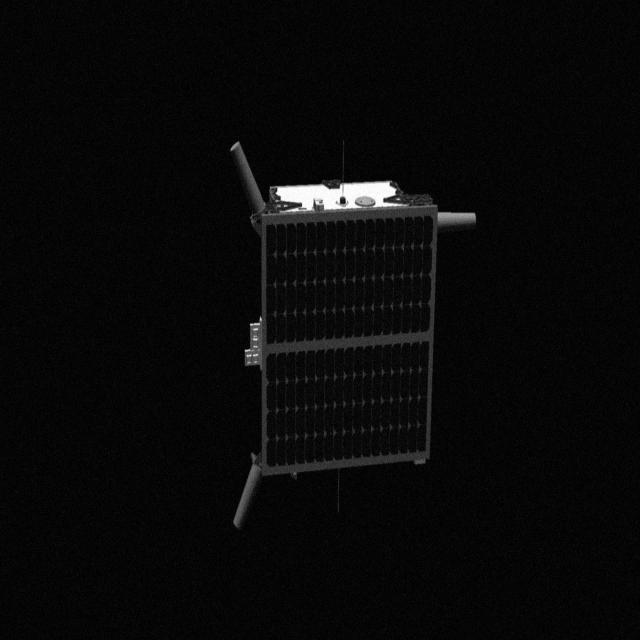medium_debris: (224, 126, 486, 512)
